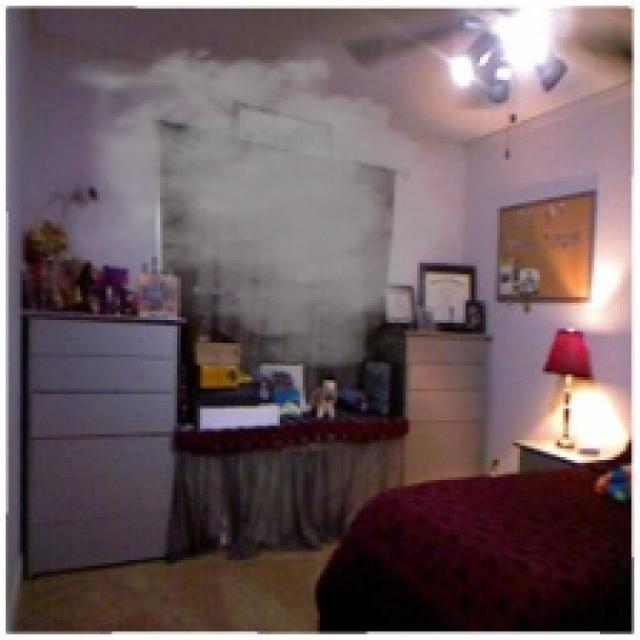smoke: (51, 31, 472, 380)
